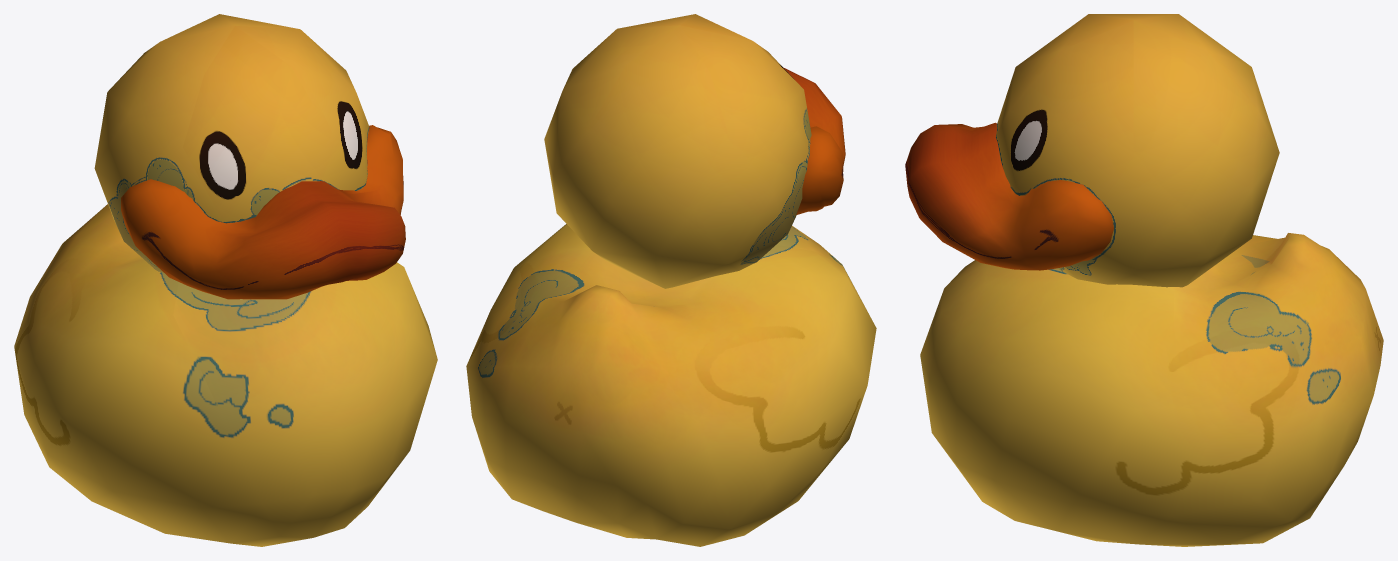
The model's file is RubberDuck.fbx.
The picture shows the model from 3 angles, left to right: view 1: azimuth 30°, elevation 25°; view 2: azimuth 150°, elevation 25°; view 3: azimuth 270°, elevation 25°; orthographic projection. The views are drawn at different scales.
Visible parts, largest first — view 1: Body, Head, Mouth; view 2: Body, Head, Mouth; view 3: Body, Head, Mouth.
Part boxes in pixels (<box>): Body: <box>14,204,437,546</box>; Head: <box>94,14,369,273</box>; Mouth: <box>121,125,405,299</box>; Body: <box>466,224,876,546</box>; Head: <box>544,14,811,288</box>; Mouth: <box>783,67,845,214</box>; Body: <box>920,233,1383,546</box>; Head: <box>995,14,1279,287</box>; Mouth: <box>905,122,1113,270</box>.
Bounding box in the file's own units: 268 × 335 × 301.
Materials: 3 (3 with a texture image).
